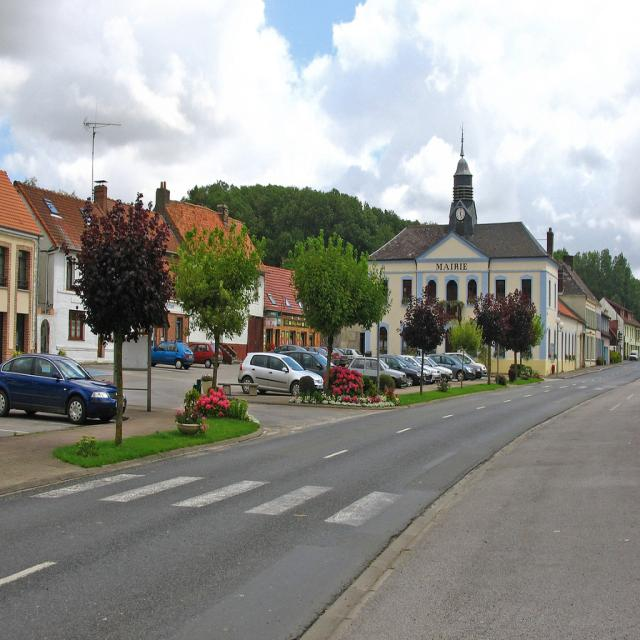car: (0, 349, 126, 424), (148, 338, 196, 369), (185, 339, 223, 368)
